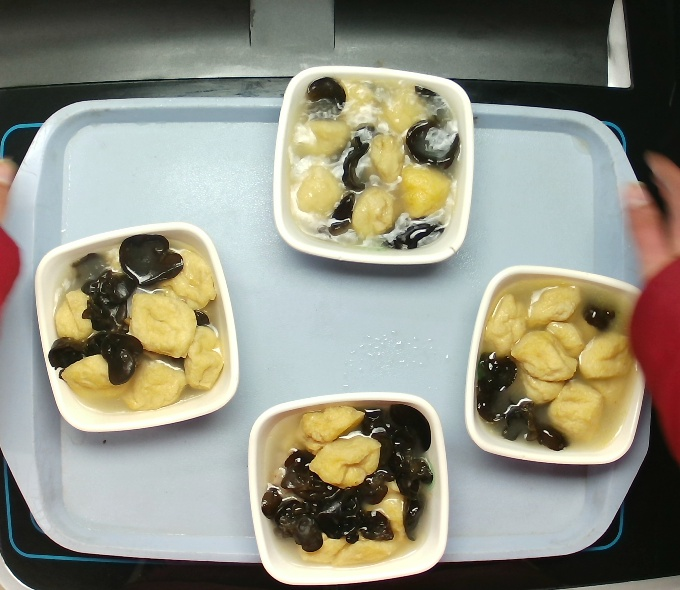wcq-MuErYouPaoTang: (460, 268, 652, 464), (271, 74, 475, 249), (259, 394, 436, 574), (51, 241, 227, 406)
